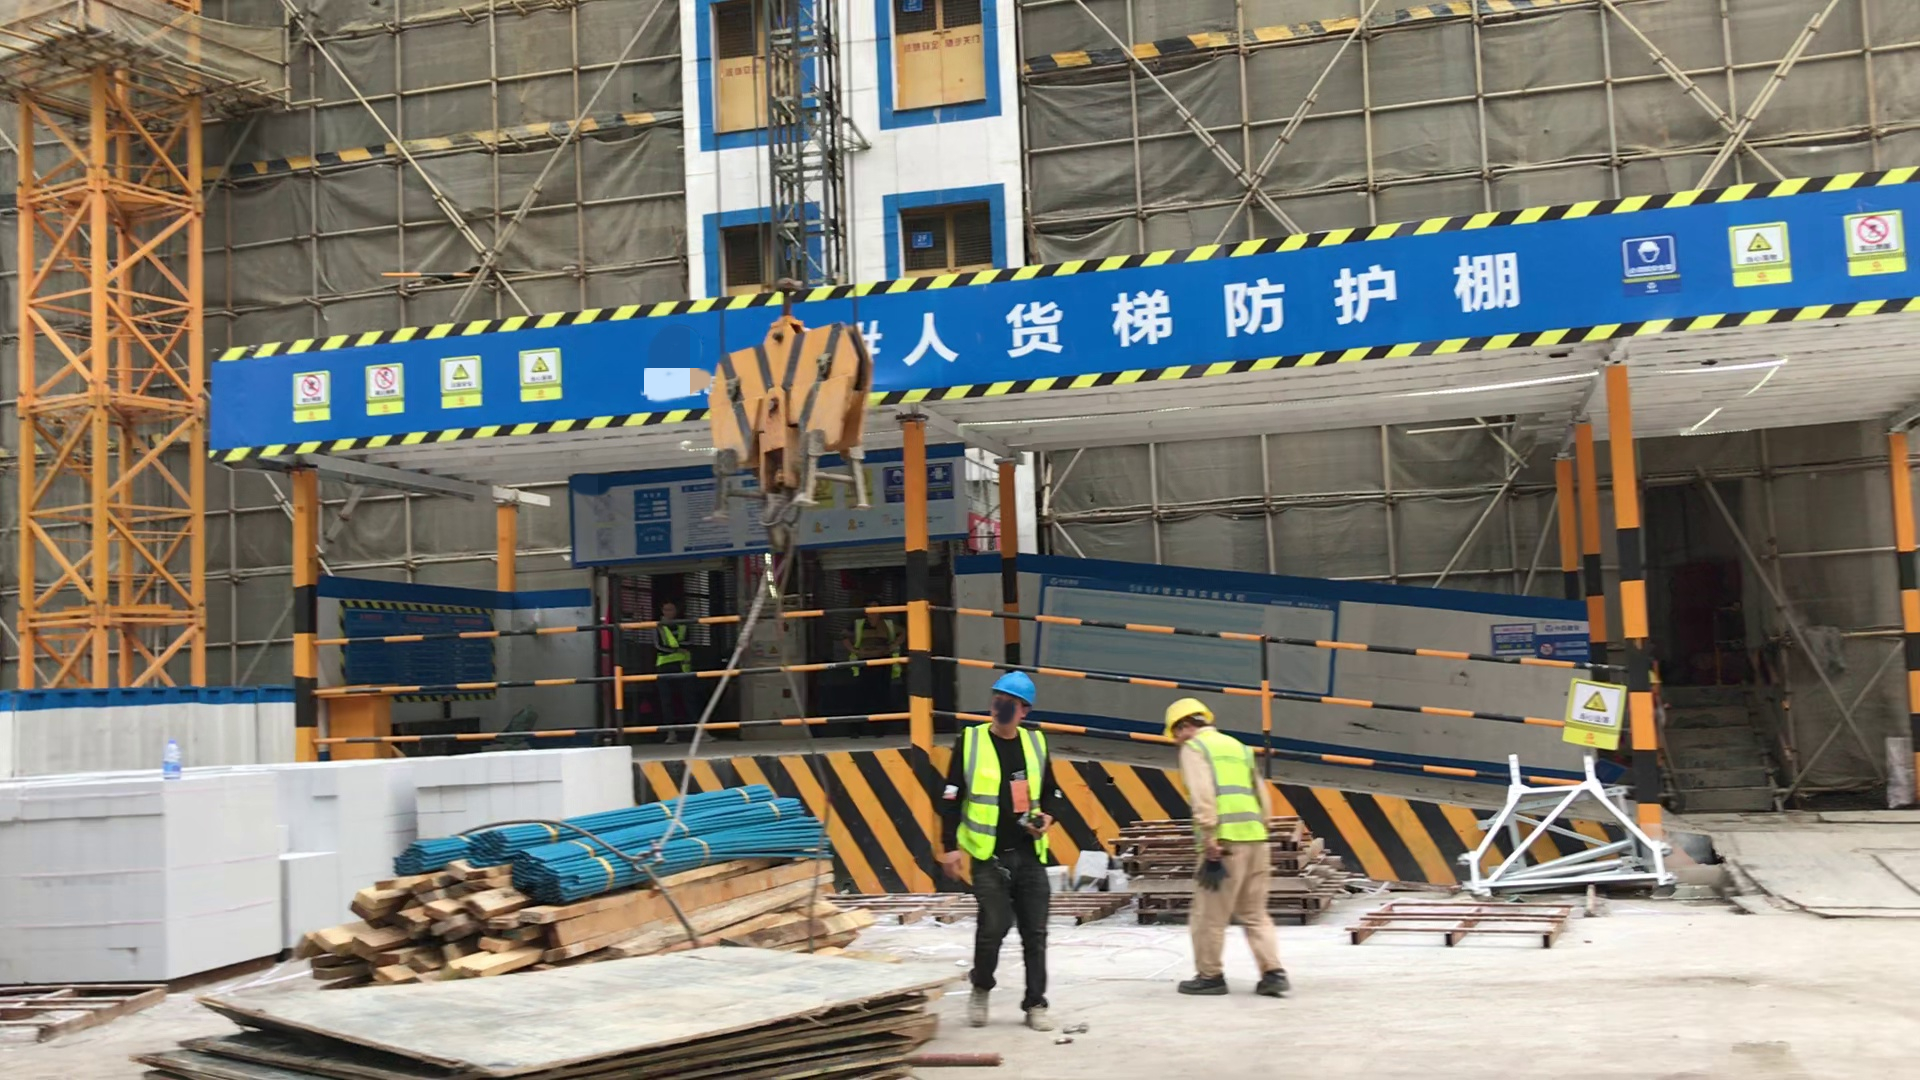board: (182, 909, 948, 1080)
helmet: (991, 670, 1035, 703), (1160, 701, 1212, 723)
hook: (682, 322, 915, 495)
person: (938, 668, 1069, 1032), (1164, 693, 1304, 1001)
vest: (956, 717, 1052, 867), (1177, 726, 1271, 853)
wood: (310, 862, 788, 972)
